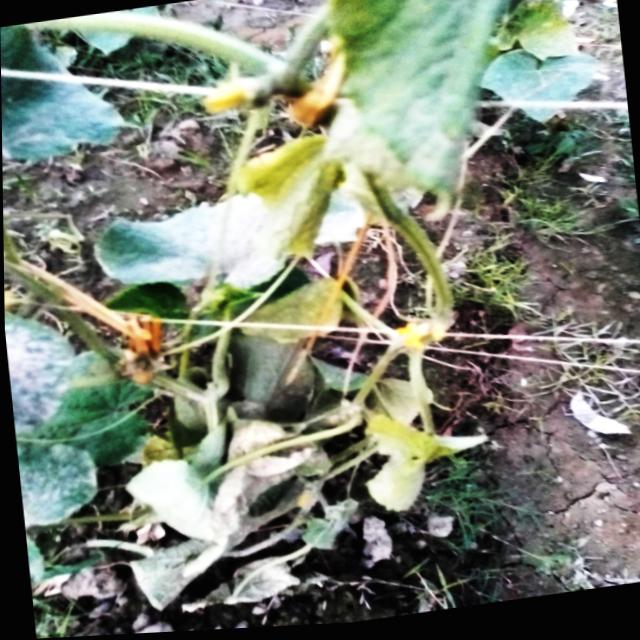Bacterial-Wilt: (113, 400, 331, 621)
